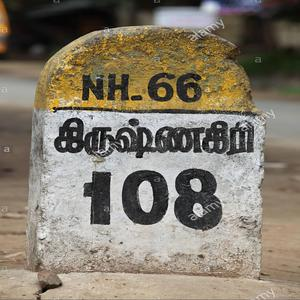kmstone: (31, 23, 265, 290)
